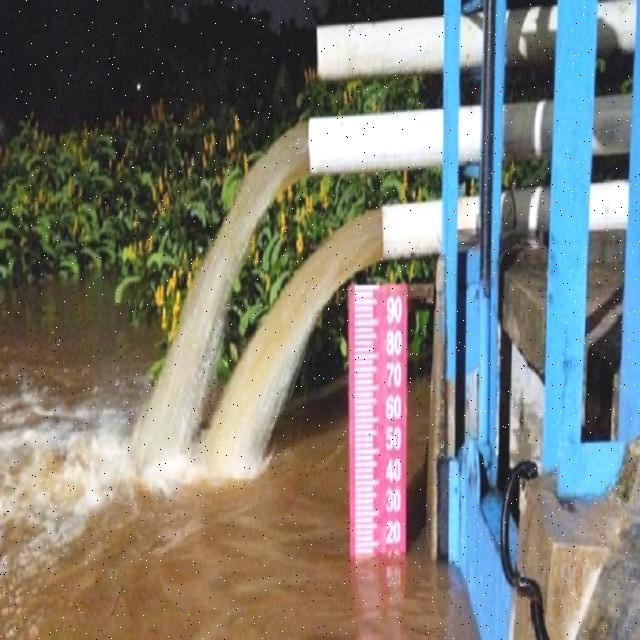staff: (352, 281, 408, 565)
